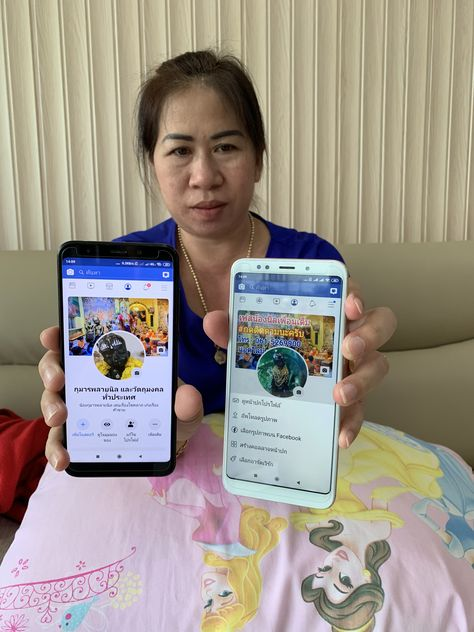phone: (216, 249, 356, 521), (51, 232, 183, 481)
